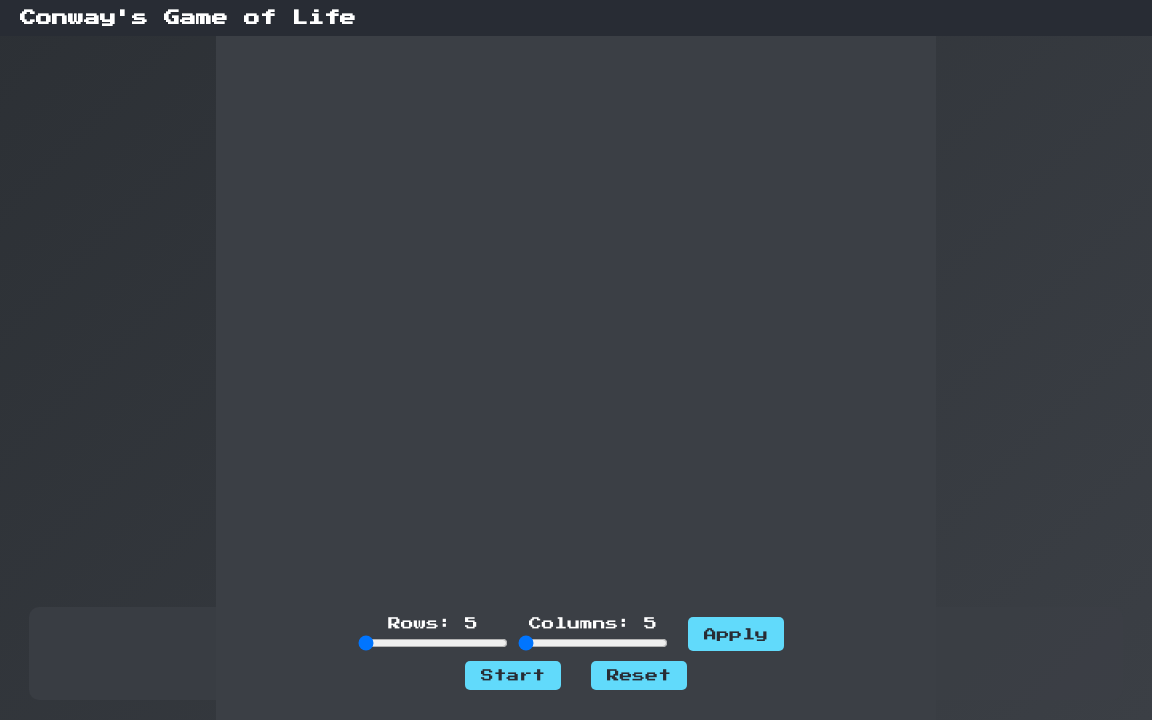
Test case: toggles Start/Stop button text on click
Click the button "Start": (513, 676) [465,661,561,690]
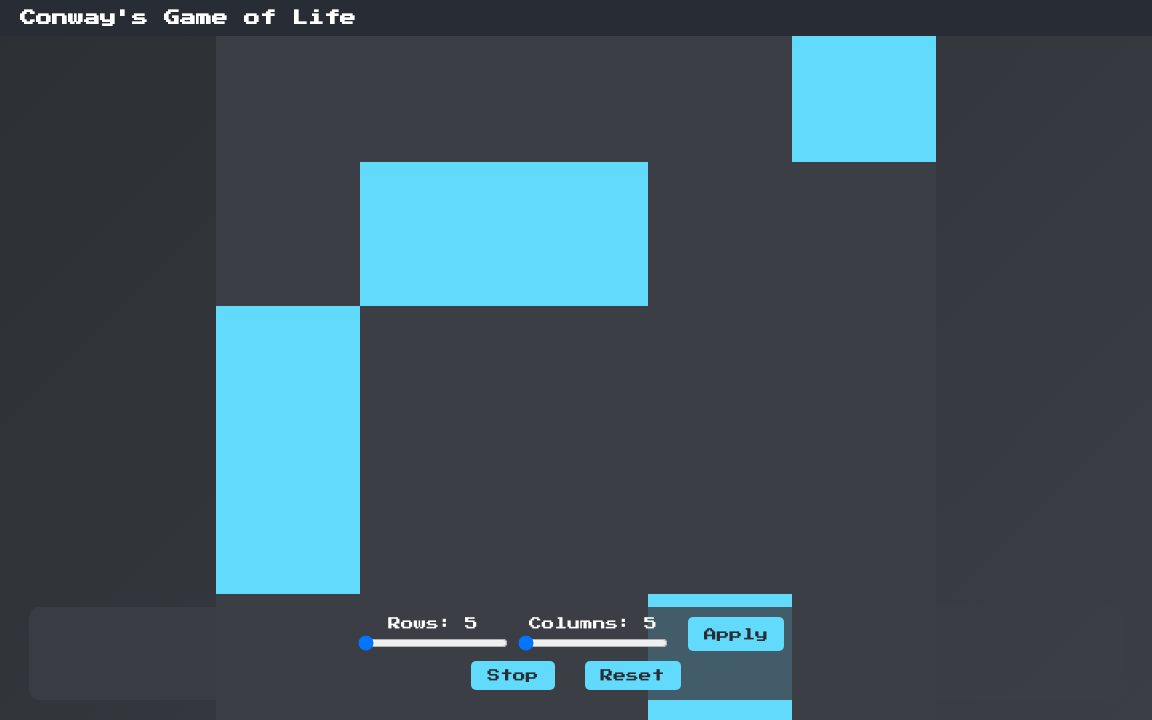
Expected: the button "Start" reads "Stop"
Click the button "Start": (513, 676) [471,661,555,690]
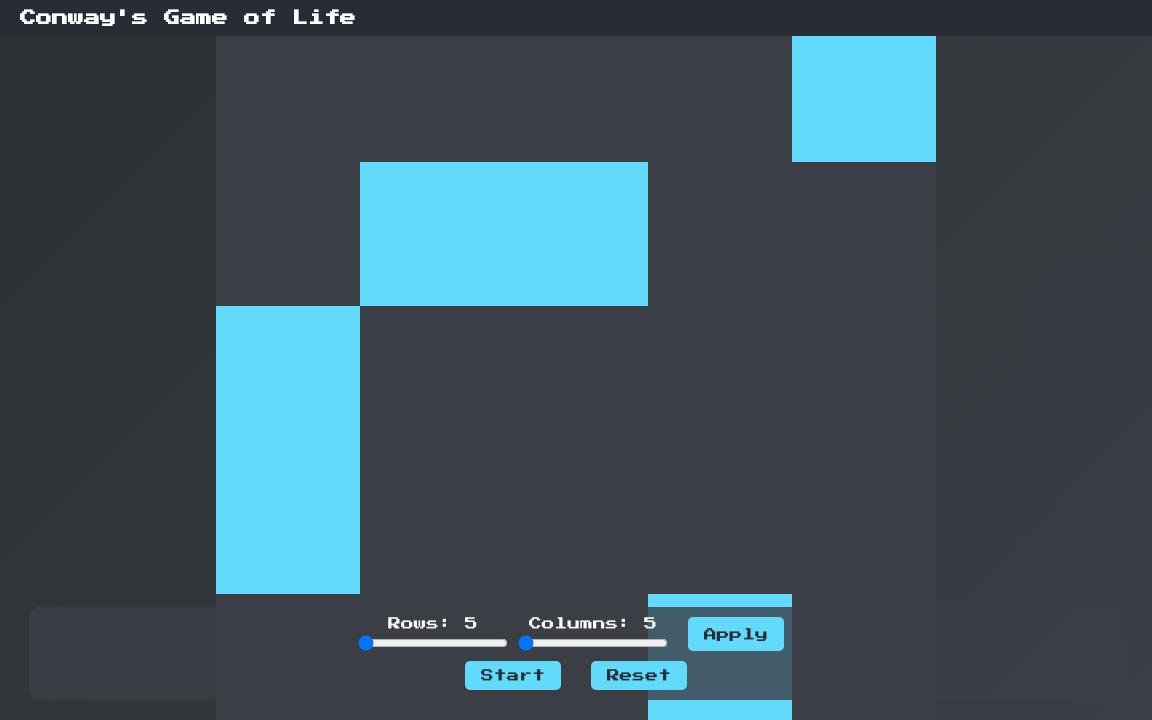
Expected: the button "Start" is shown, [465,661,561,690]
